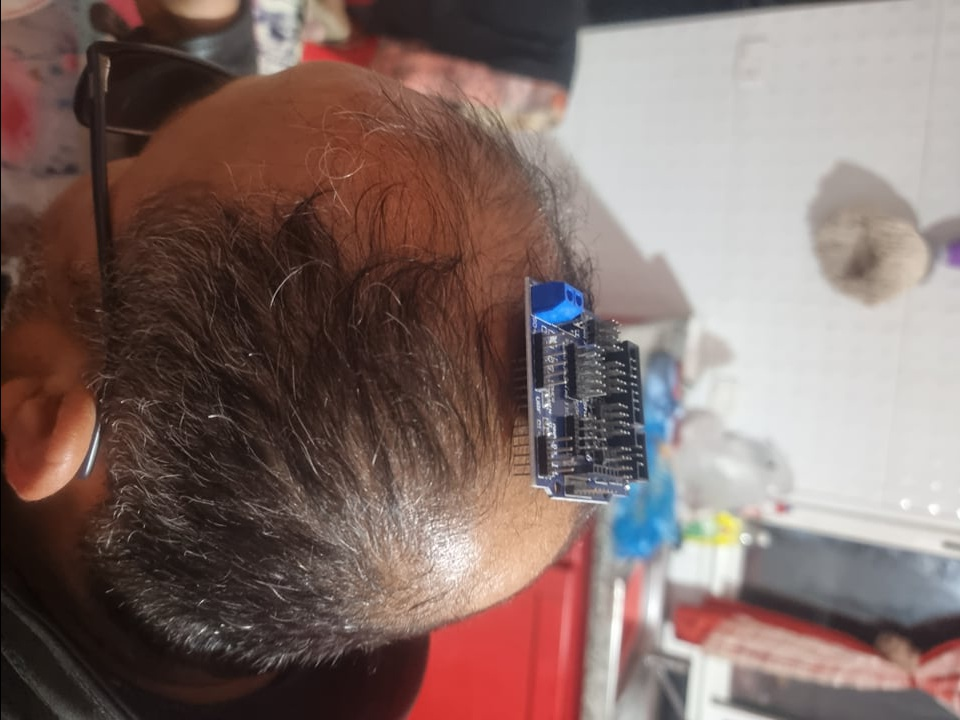5V EXPANSION: (505, 274, 647, 503)
